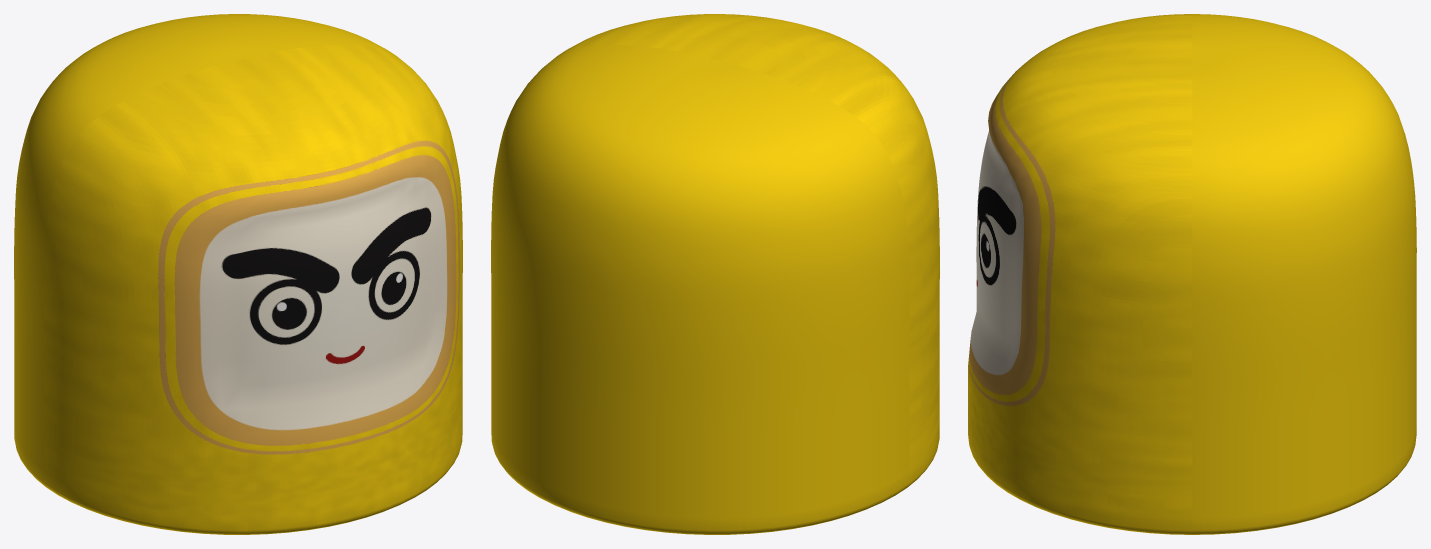
File: akadaru_square.fbx
3 views of the same model, side by side, from view 1: azimuth 30°, elevation 25°; view 2: azimuth 150°, elevation 25°; view 3: azimuth 270°, elevation 25° (orthographic).
Parts seen in each view (by area): view 1: akadaru_square; view 2: akadaru_square; view 3: akadaru_square.
Boxes of the visible parts, x1,y1,x2,y2 form: akadaru_square: [14, 14, 462, 534]; akadaru_square: [491, 14, 939, 534]; akadaru_square: [968, 14, 1416, 534].
Size of the model in its own units: 1 by 0.9425 by 1.
1 material, 1 textured.
